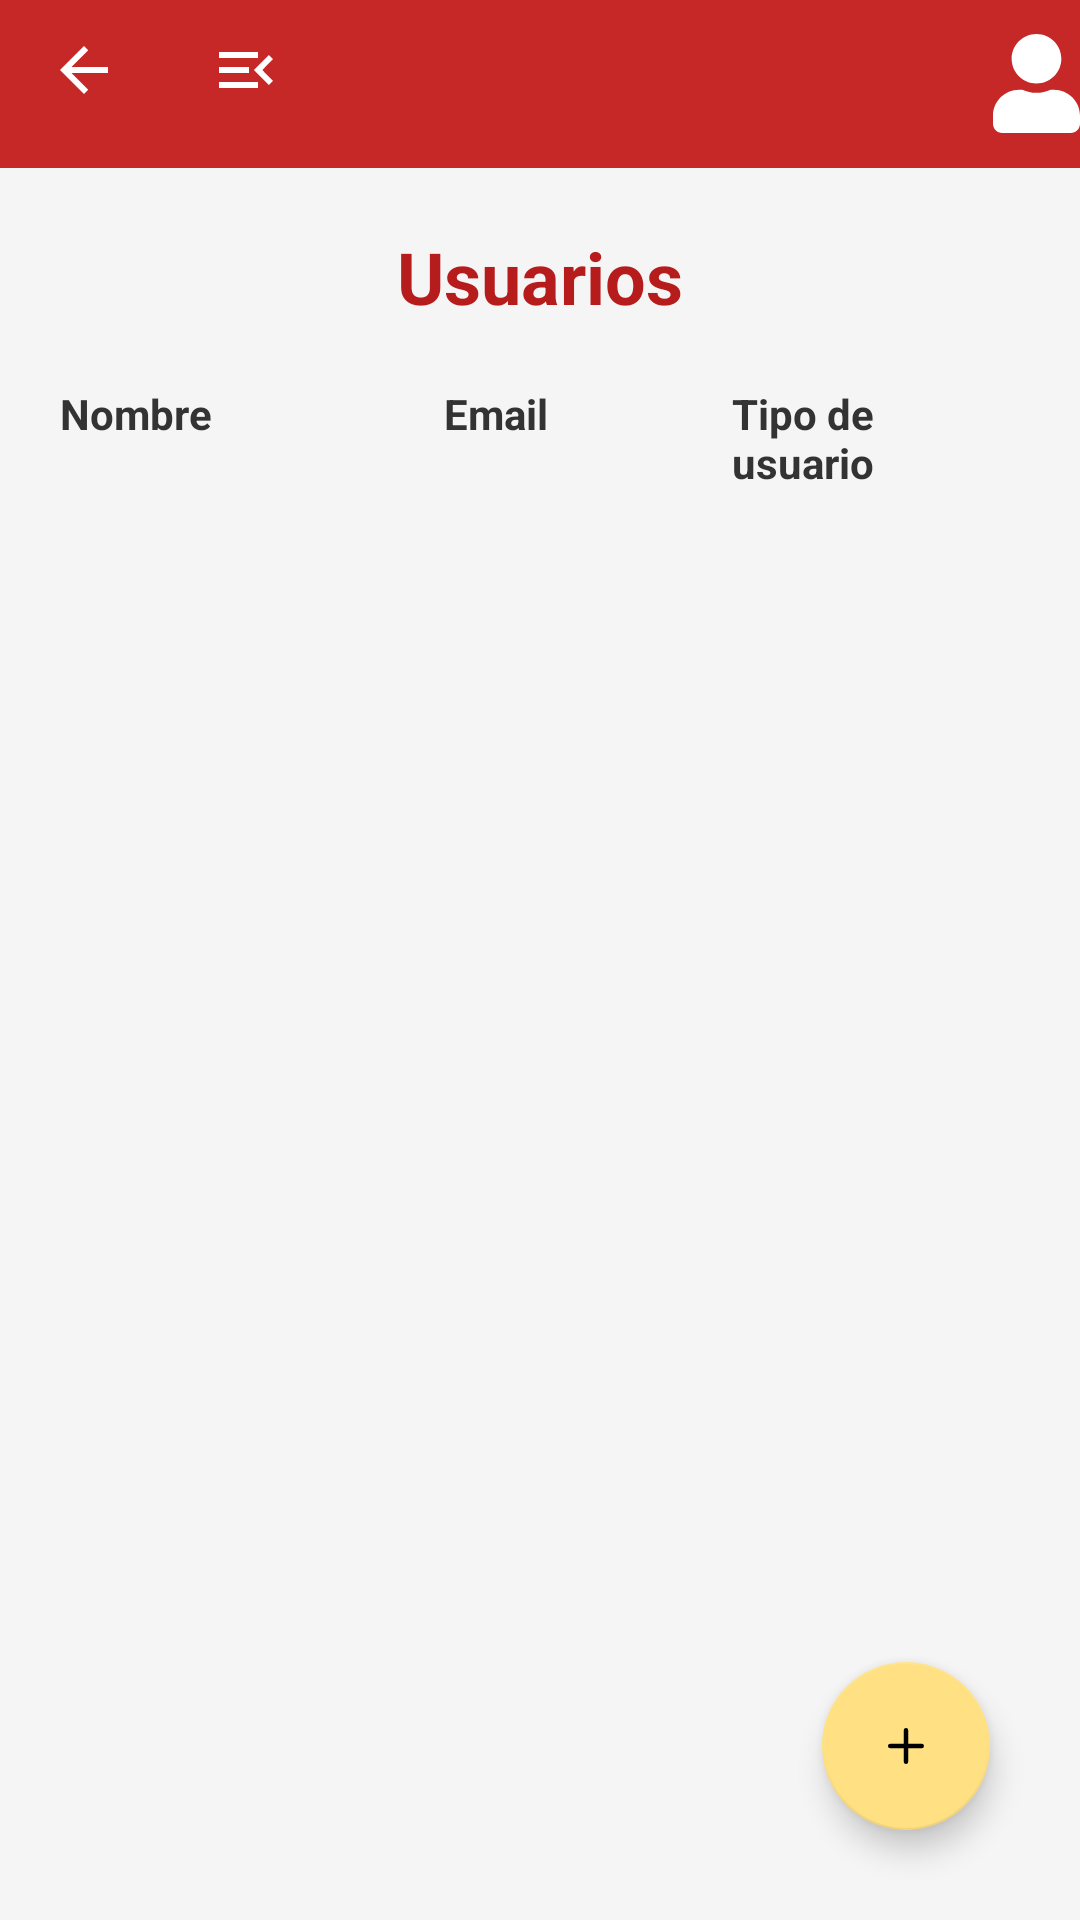

Screen size 1080w x 1920h. Icon name, then its center in pixels as (x,y):
arrow back: (84,70)
open: (246,70)
plus: (906,1746)
user: (1036,83)
